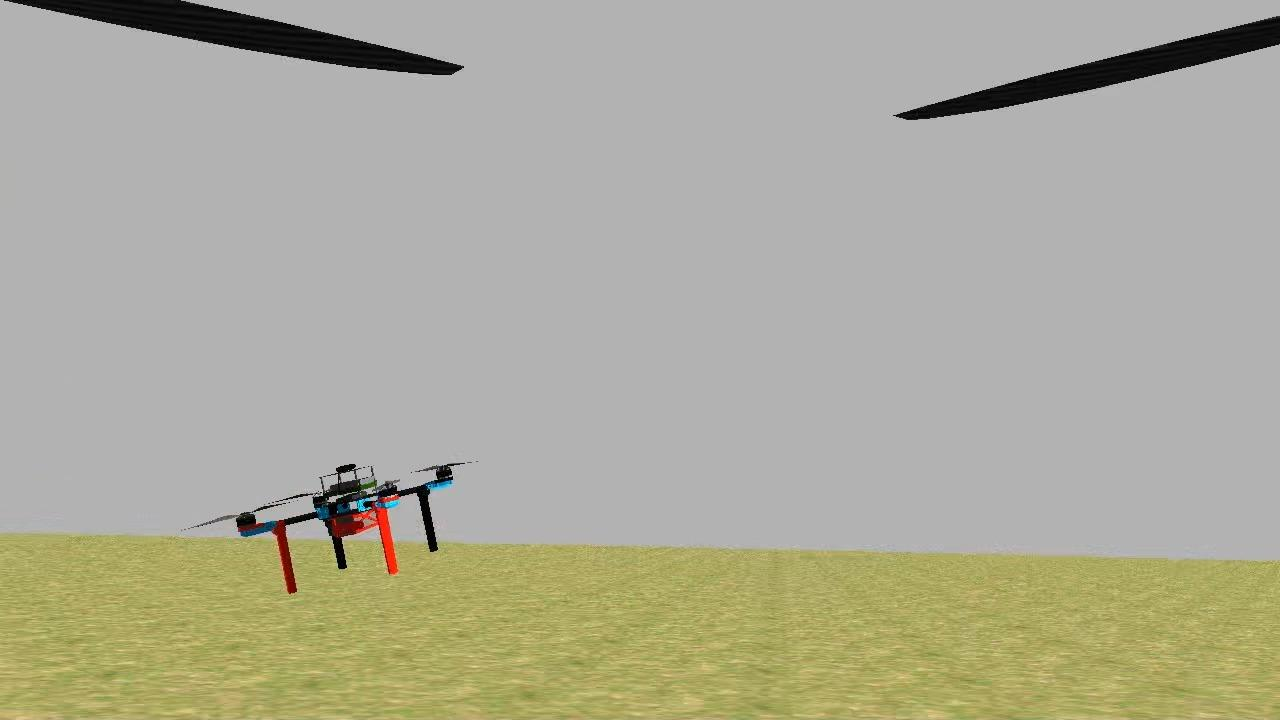UAV: (218, 446, 477, 606)
